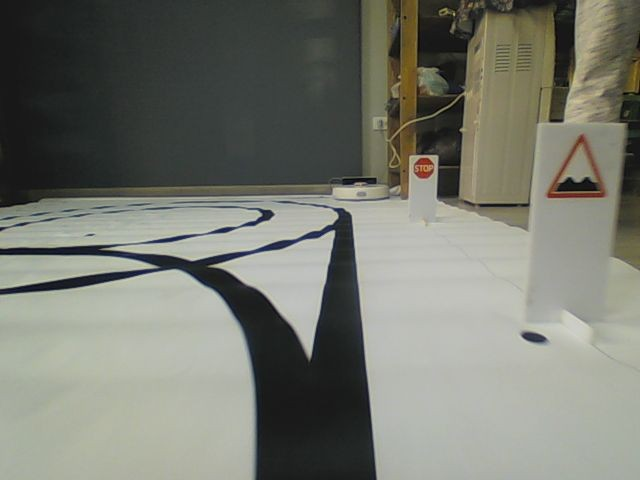Stop: (412, 158, 434, 178)
